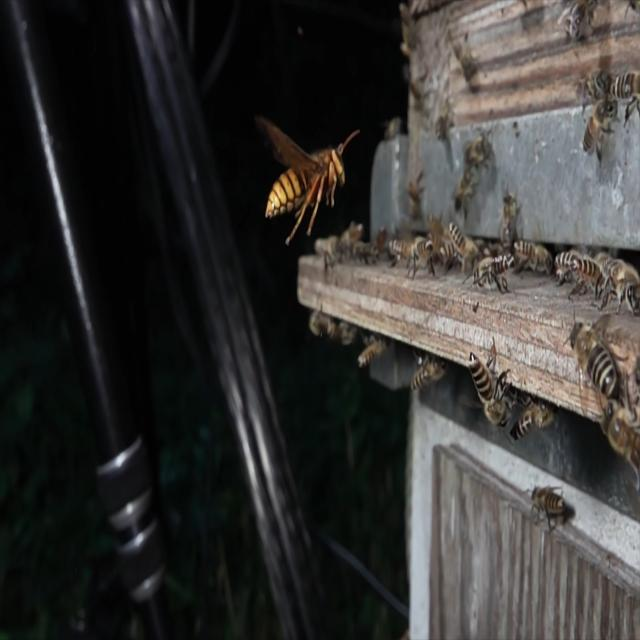Bees: (564, 304, 628, 408), (468, 343, 510, 433), (508, 390, 561, 446), (596, 254, 640, 316), (526, 478, 566, 532), (466, 253, 516, 296), (581, 100, 616, 159), (513, 238, 552, 280), (411, 355, 447, 392)
Hornets: (258, 114, 360, 242)
